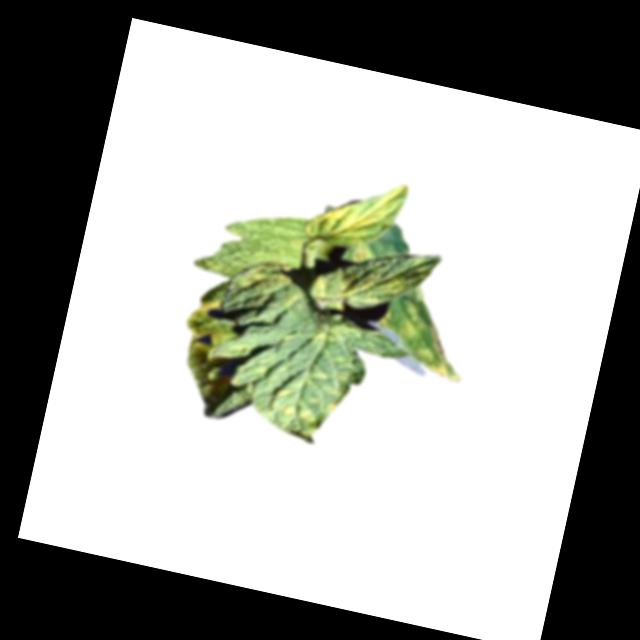Leaf_Mold: (367, 278, 483, 384), (306, 166, 411, 258), (311, 255, 403, 314), (261, 382, 340, 447), (180, 293, 235, 358)
